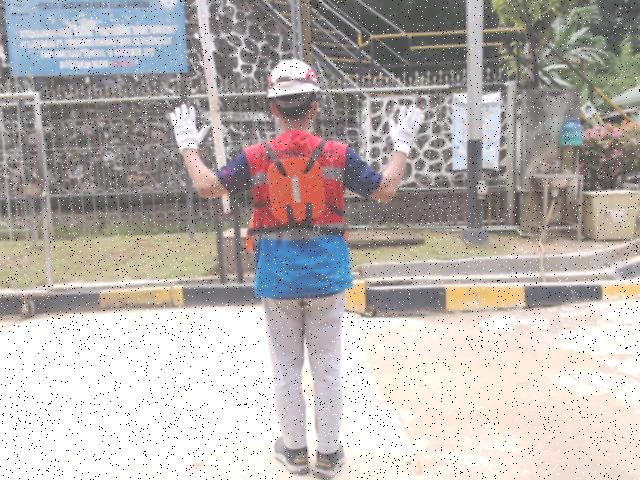gloves: (167, 102, 213, 153), (385, 103, 426, 157)
helmet: (264, 55, 323, 102)
safety-shoes: (272, 432, 316, 475), (314, 438, 344, 475), (293, 181, 293, 185)
vest: (263, 155, 329, 229)
